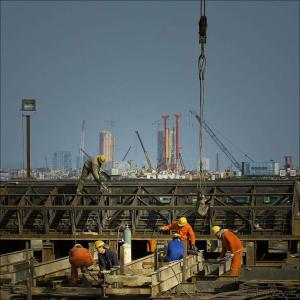yellow: (95, 241, 106, 255), (213, 226, 223, 238), (179, 217, 188, 229), (99, 156, 108, 166), (172, 234, 182, 242)
